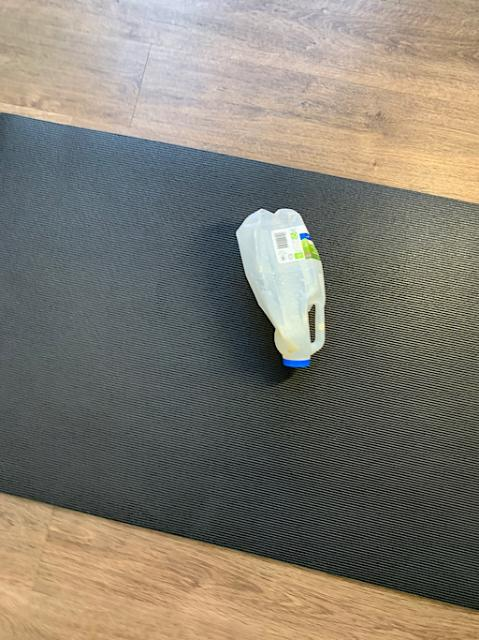plastic: (235, 208, 324, 365)
